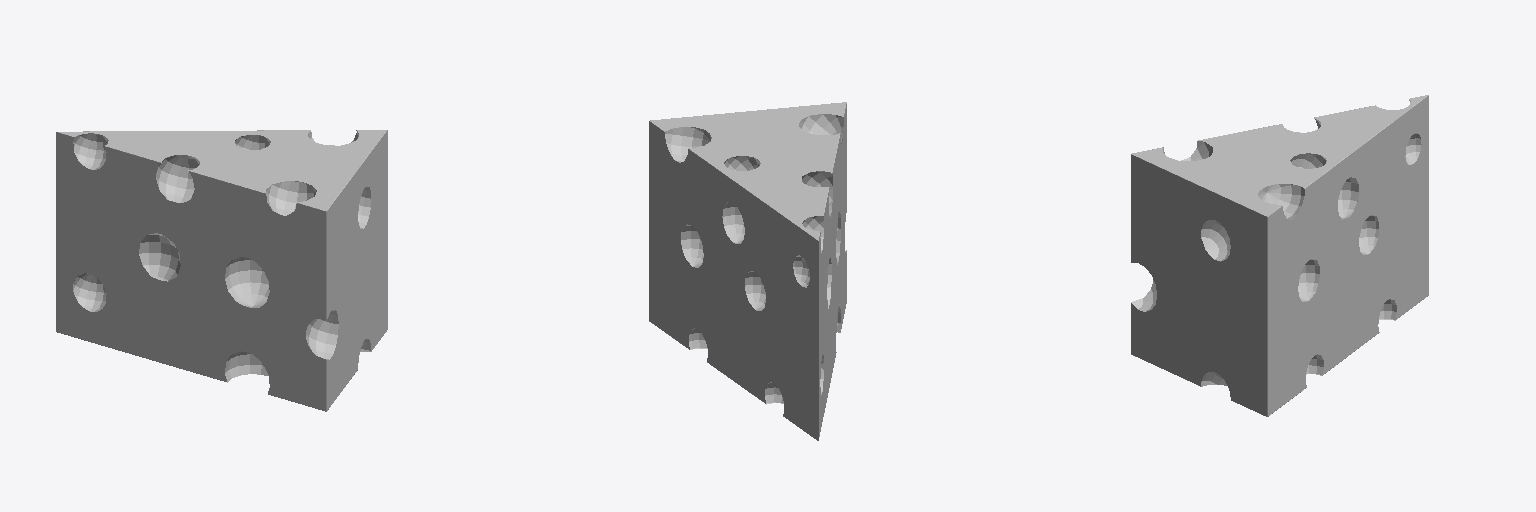
File: cheese.obj
The picture shows the model from 3 angles: view 1: azimuth 30°, elevation 25°; view 2: azimuth 150°, elevation 25°; view 3: azimuth 270°, elevation 25°; orthographic projection.
Visible parts, largest first — view 1: Box20179; view 2: Box20179; view 3: Box20179.
Part boxes in pixels (left/top/right/bottom): Box20179: left=56, top=130, right=387, bottom=411; Box20179: left=649, top=102, right=846, bottom=440; Box20179: left=1131, top=95, right=1428, bottom=416.
Bounding box in the file's own units: 647 × 495 × 668.